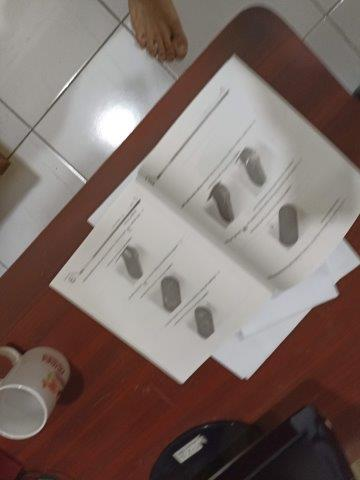kertas: (49, 53, 360, 386)
